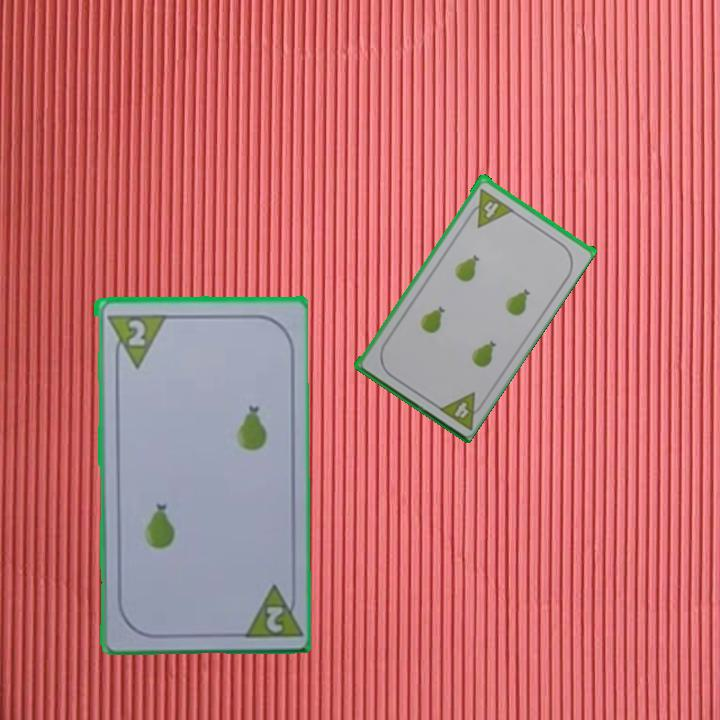2p: (103, 310, 166, 370), (262, 602, 285, 635)
4p: (434, 388, 489, 432), (463, 185, 515, 230)
